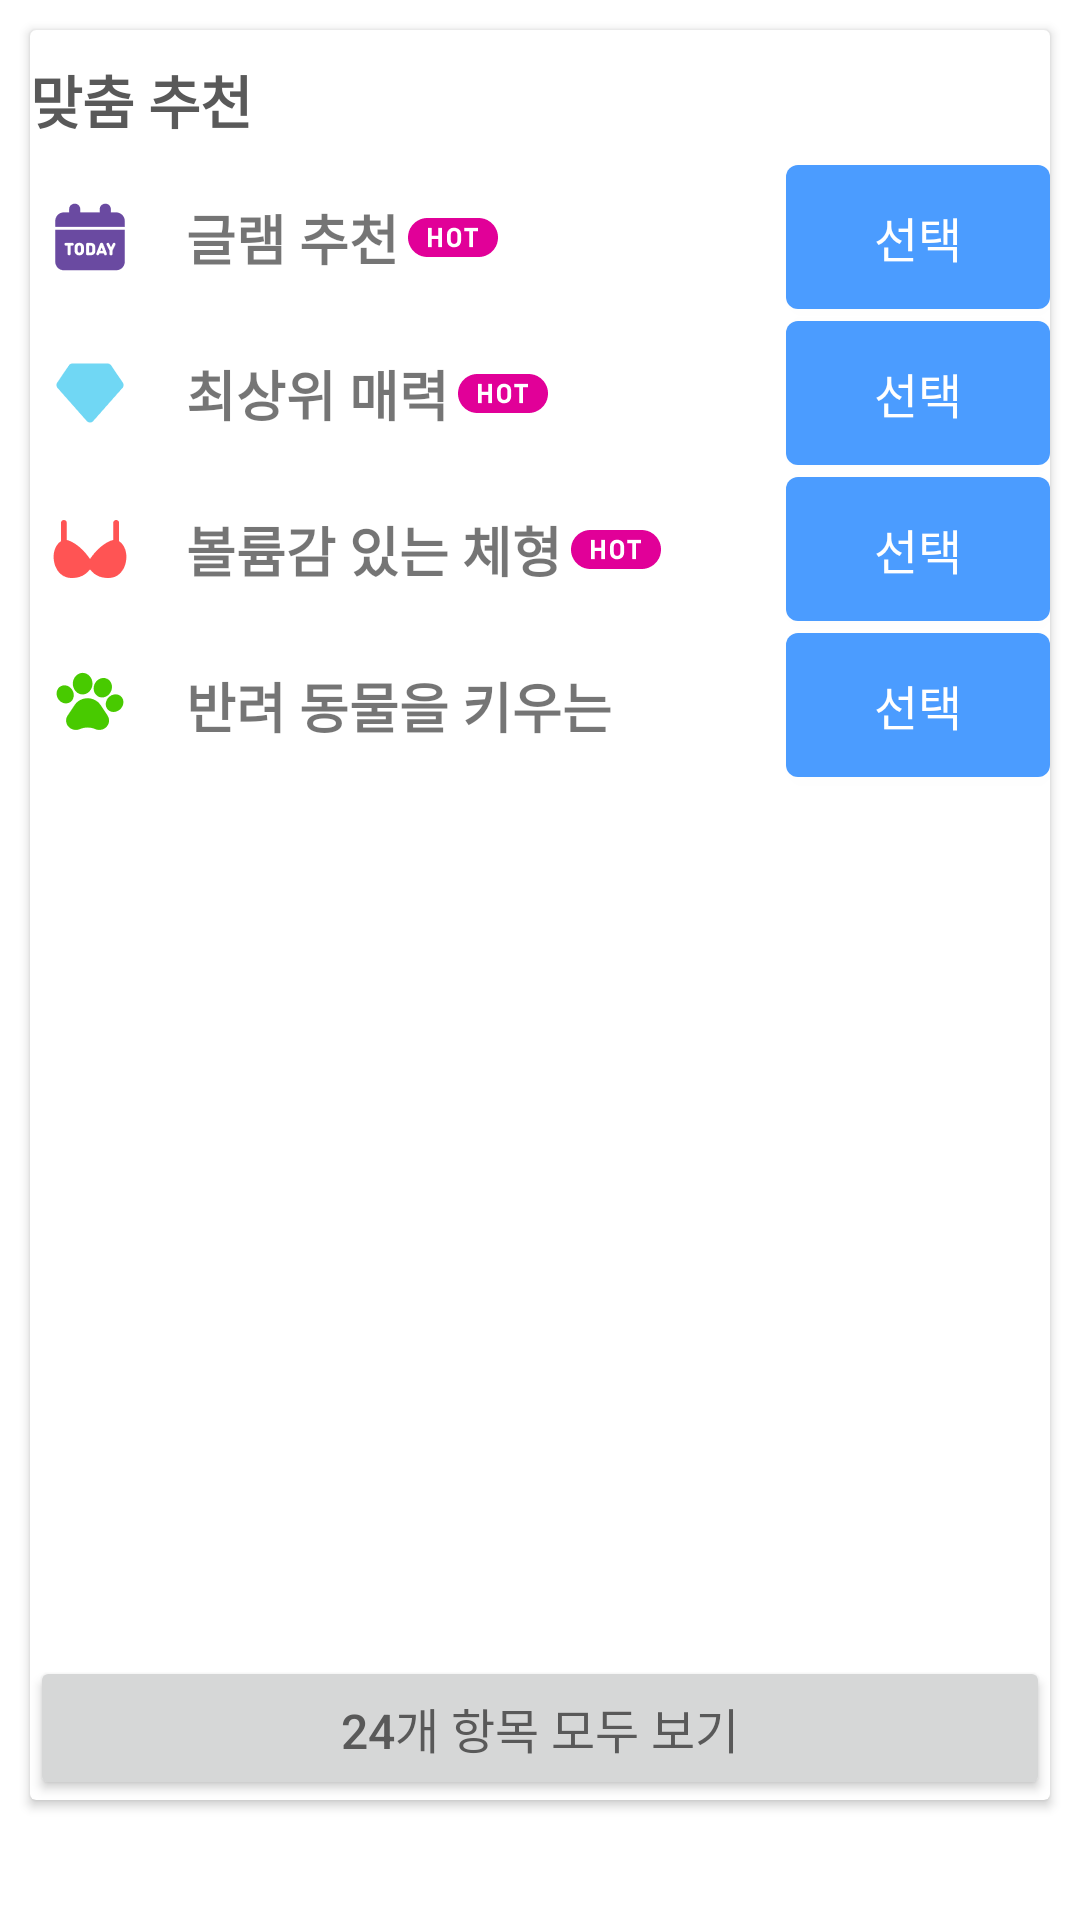

Where to tap for icons on this 1080×1920 app screen, as point (x, y):
dia: point (90, 393)
withpet: point (90, 701)
